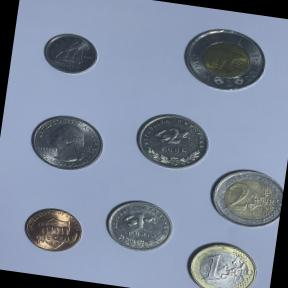1 Euro: (178, 234, 263, 288)
2 Euro: (202, 162, 286, 234)
Canda-10cent-: (36, 26, 104, 82)
Canda-2Dollar-: (176, 20, 272, 99)
Croatia-2Kune-: (129, 107, 215, 176)
US-1cent-: (17, 201, 90, 259)
US-25cent-: (22, 107, 110, 177)
